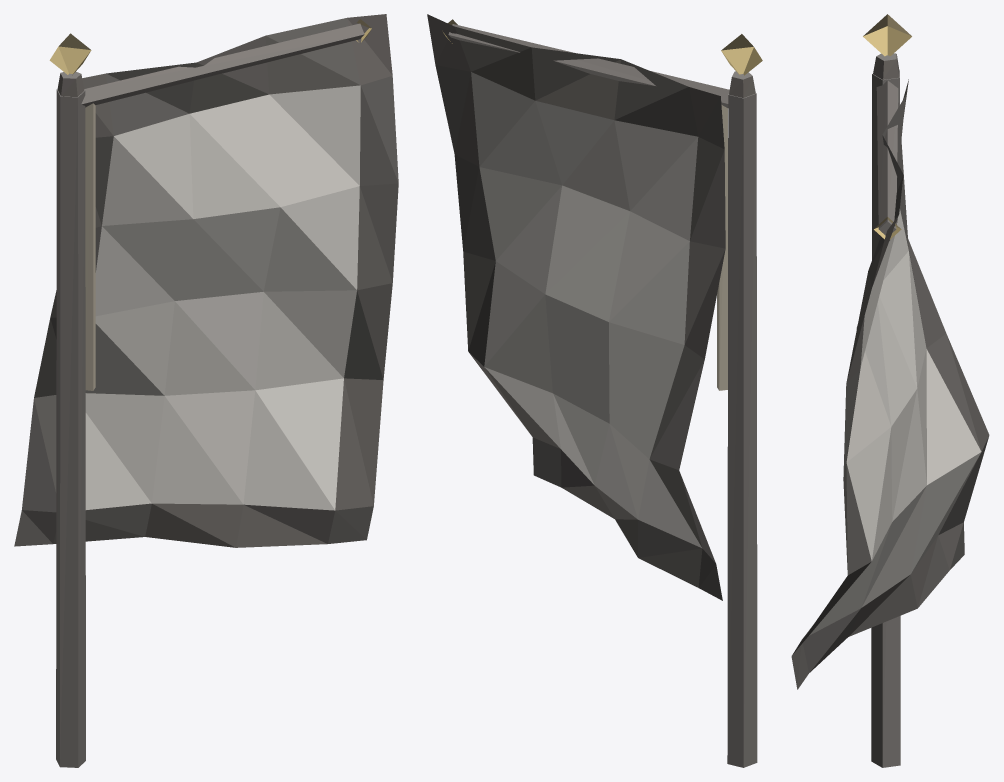
The model's file is flag.rect.suqi__pole.stick.fangun__armHang.glb.
3 views of the same model, side by side, from view 1: azimuth 30°, elevation 25°; view 2: azimuth 150°, elevation 25°; view 3: azimuth 270°, elevation 25° (orthographic). The views are drawn at different scales.
Visible parts, largest first — view 1: flag.rect.suqi; view 2: flag.rect.suqi; view 3: flag.rect.suqi.
Boxes of the visible parts, x1,y1,x2,y2 form: flag.rect.suqi: (14,14,398,767); flag.rect.suqi: (427,14,762,767); flag.rect.suqi: (791,14,989,767).
Size of the model in its own units: 1.1 by 2.28 by 0.5482.
